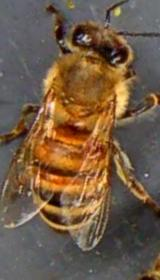varroa_mite: (78, 139, 105, 163)
